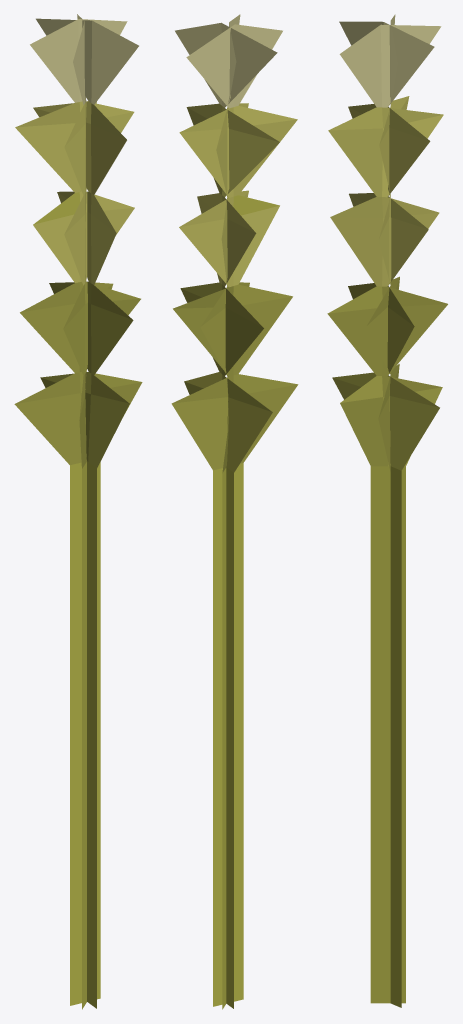
Rendered from Corn_01.glb.
3 renders of one model, left to right at view 1: azimuth 30°, elevation 25°; view 2: azimuth 210°, elevation 25°; view 3: azimuth 270°, elevation 25°, orthographic.
Parts seen in each view (by area): view 1: Corn 1; view 2: Corn 1; view 3: Corn 1.
Boxes of the visible parts, bbox=[...] form: Corn 1: bbox=[14, 14, 142, 1009]; Corn 1: bbox=[171, 14, 298, 1009]; Corn 1: bbox=[327, 14, 447, 1007].
Bounding box in the file's own units: 0.2477 × 1.99 × 0.223.
